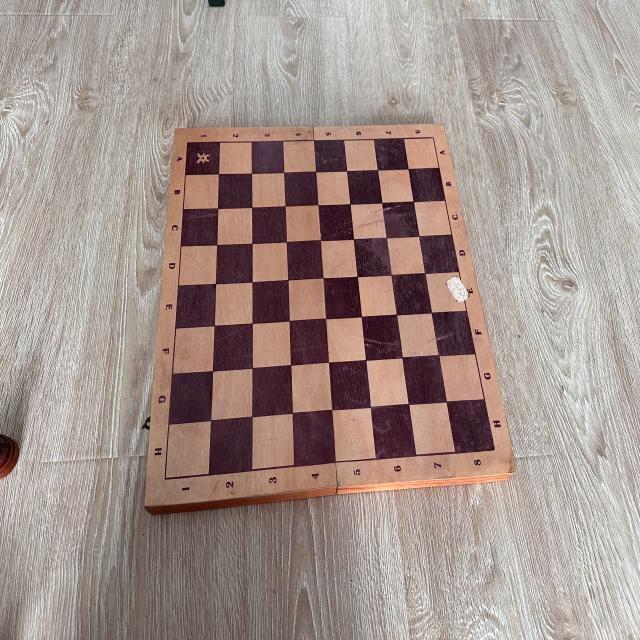chess-table-corners: (161, 472, 169, 483), (491, 445, 498, 455), (185, 139, 190, 147), (431, 134, 436, 141)
